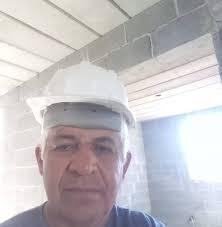helmet: (26, 60, 138, 127)
